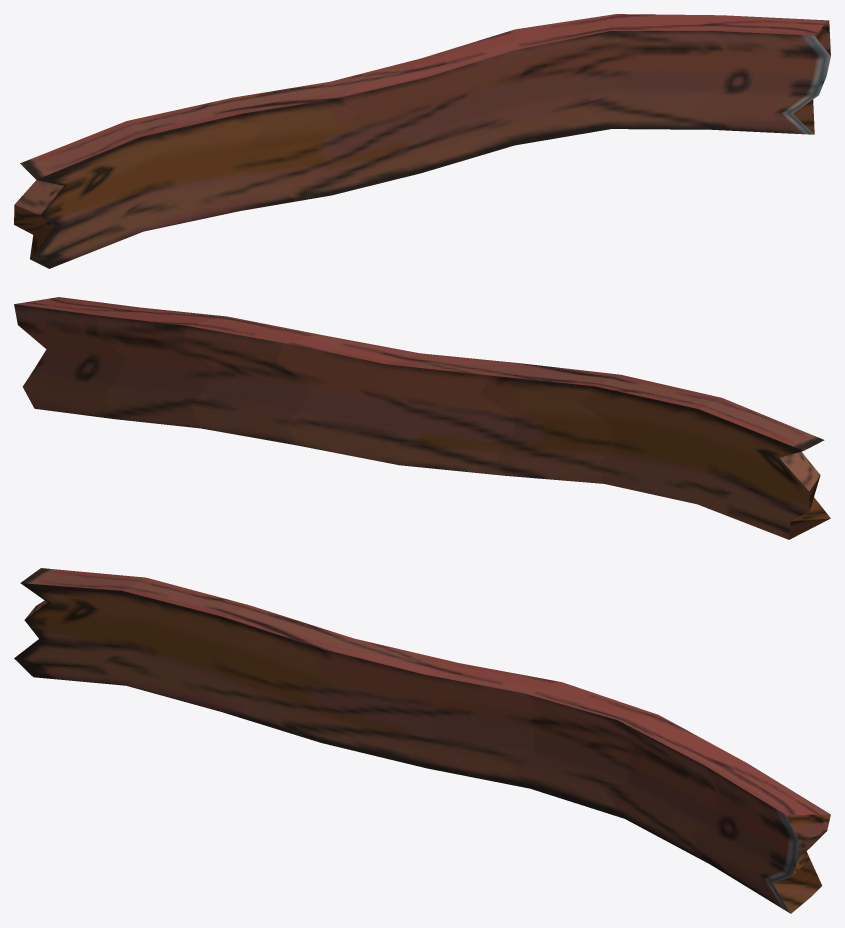
Rendered from Plank2.fbx.
3 views of the same model, one above another, from view 1: azimuth 30°, elevation 25°; view 2: azimuth 150°, elevation 25°; view 3: azimuth 330°, elevation 25° (orthographic).
Visible parts, largest first — view 1: Plank2; view 2: Plank2; view 3: Plank2.
Part boxes in pixels (<box>): Plank2: <box>14,14,830,268</box>; Plank2: <box>14,297,830,539</box>; Plank2: <box>14,568,830,913</box>.
Size of the model in its own units: 86.96 by 16.84 by 7.33.
